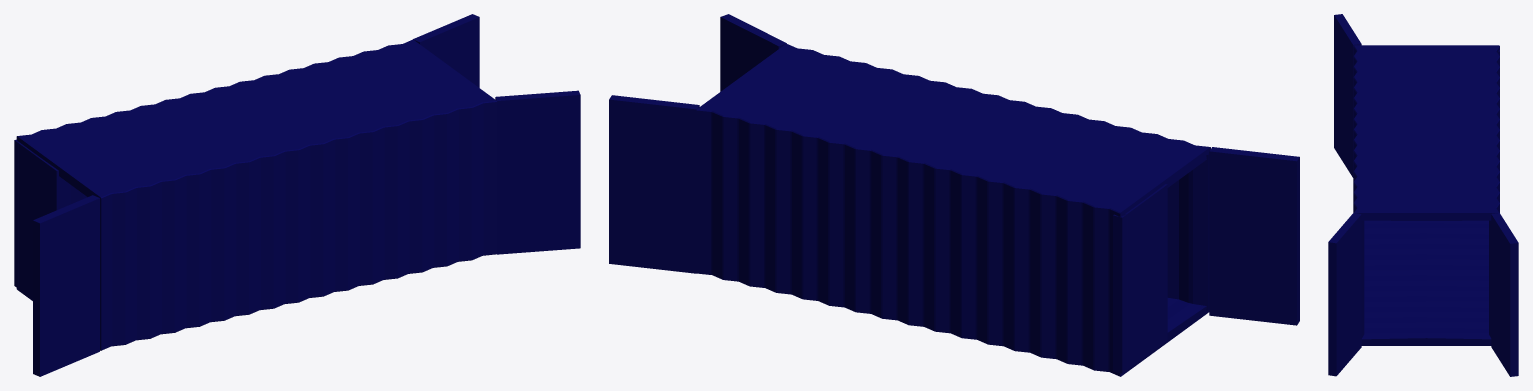
File: shipment_tri_blue.glb
3 renders of one model, left to right at view 1: azimuth 30°, elevation 25°; view 2: azimuth 150°, elevation 25°; view 3: azimuth 270°, elevation 25°, orthographic. The views are drawn at different scales.
Parts seen in each view (by area): view 1: shipment_tri_blue; view 2: shipment_tri_blue; view 3: shipment_tri_blue.
Boxes of the visible parts, box(x1,y1,x2,y2) form: shipment_tri_blue: box(14, 14, 580, 376); shipment_tri_blue: box(609, 14, 1299, 376); shipment_tri_blue: box(1328, 14, 1518, 376).
Bounding box in the file's own units: 7.41 × 2 × 2.59.
